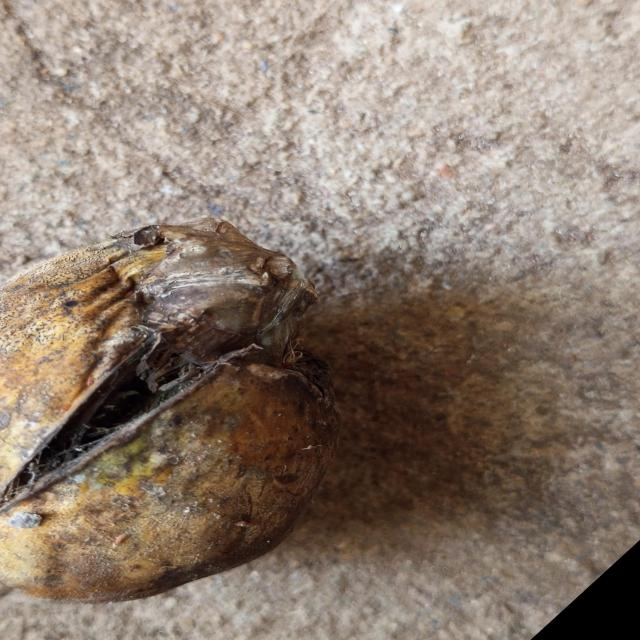damaged: (0, 218, 340, 602)
